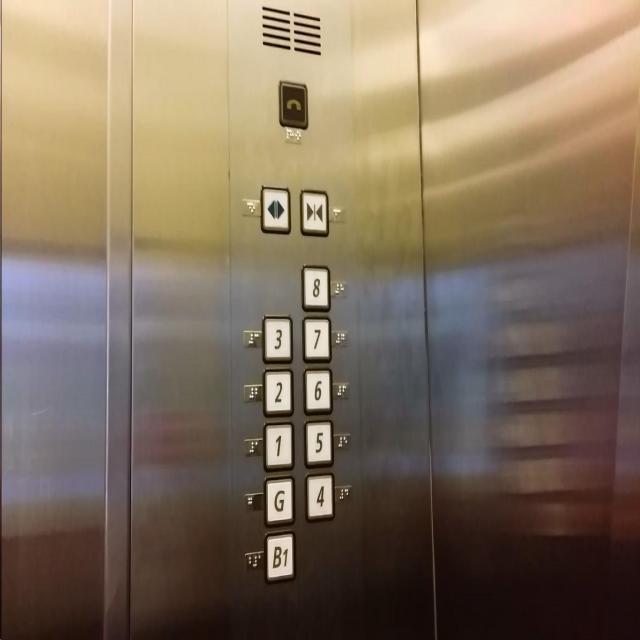1: (261, 418, 295, 474)
2: (261, 364, 295, 418)
3: (260, 311, 294, 366)
4: (303, 468, 335, 524)
5: (302, 416, 333, 469)
6: (301, 363, 332, 417)
7: (300, 313, 332, 365)
8: (299, 261, 332, 313)
B1: (262, 527, 296, 585)
G: (262, 471, 296, 528)
call: (276, 75, 310, 132)
close: (298, 184, 330, 239)
open: (259, 181, 292, 237)
